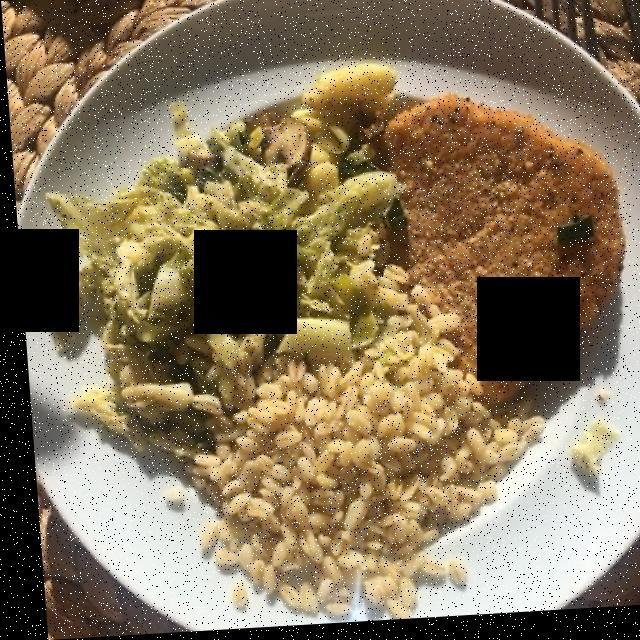ebly: (159, 257, 536, 622)
